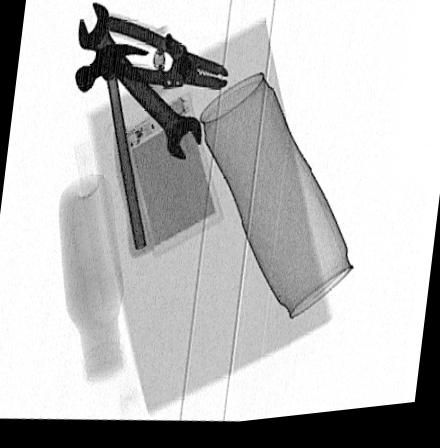Hammer: (73, 46, 153, 263)
Pliers: (91, 17, 227, 96)
Powerbank: (122, 94, 222, 264)
Wrench: (78, 5, 201, 166)
